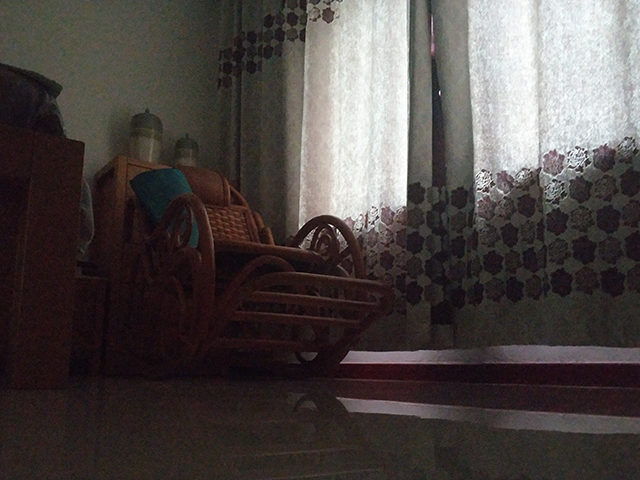bed: (1, 60, 90, 392)
curtain: (210, 1, 640, 354)
